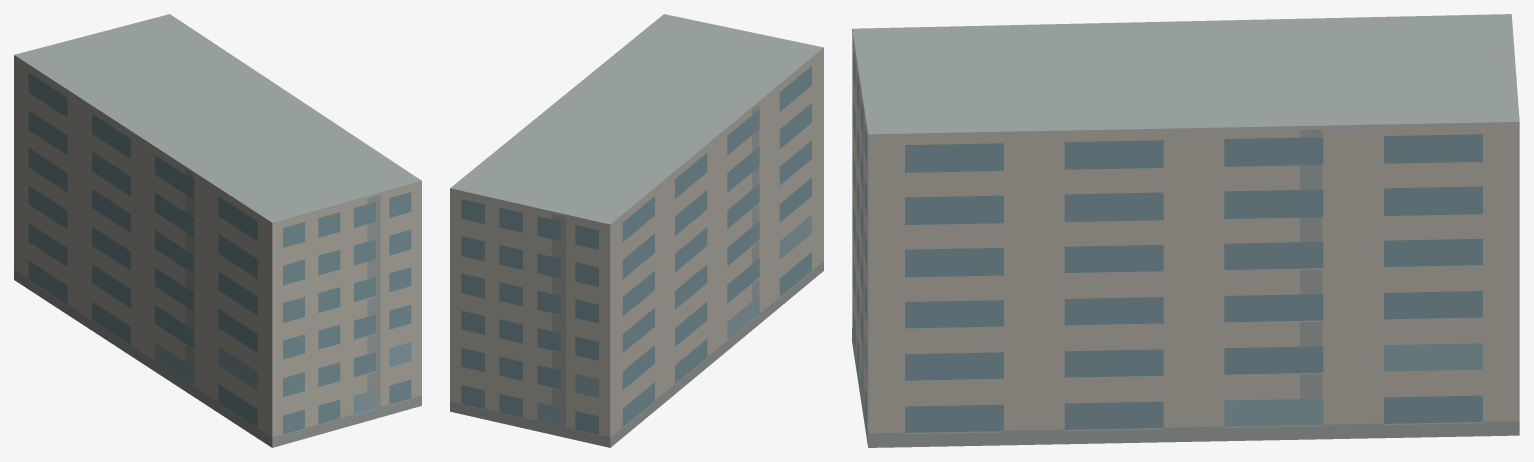
File: survey-upis-32839712.glb
The picture shows the model from 3 angles, left to right: view 1: azimuth 30°, elevation 25°; view 2: azimuth 150°, elevation 25°; view 3: azimuth 270°, elevation 25°; orthographic projection. The views are drawn at different scales.
Visible parts, largest first — view 1: survey-upis-32839712.tmp; view 2: survey-upis-32839712.tmp; view 3: survey-upis-32839712.tmp.
Part boxes in pixels (box(x1,y1,x2,y2)): survey-upis-32839712.tmp: box(14, 14, 421, 447); survey-upis-32839712.tmp: box(450, 14, 823, 447); survey-upis-32839712.tmp: box(852, 14, 1519, 447).
Size of the model in its own units: 15.43 by 18.75 by 36.18.
